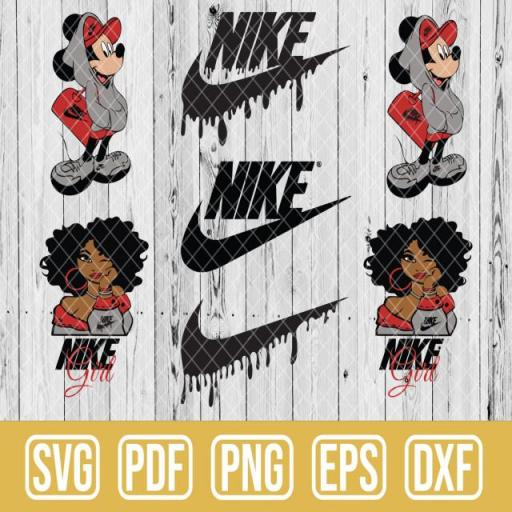Nike: (184, 296, 342, 379), (205, 159, 315, 220)
